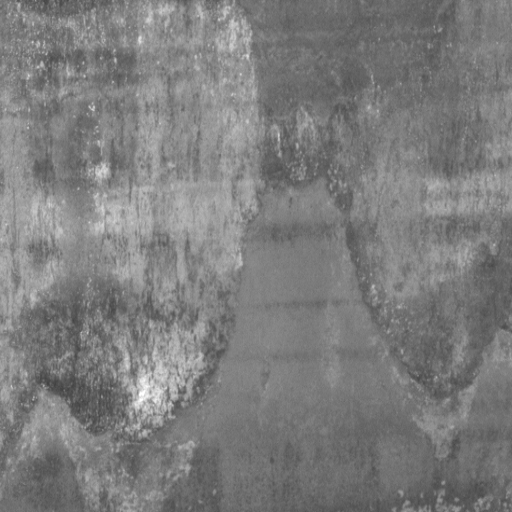qiaopi: (1, 1, 262, 447), (324, 152, 512, 404)
